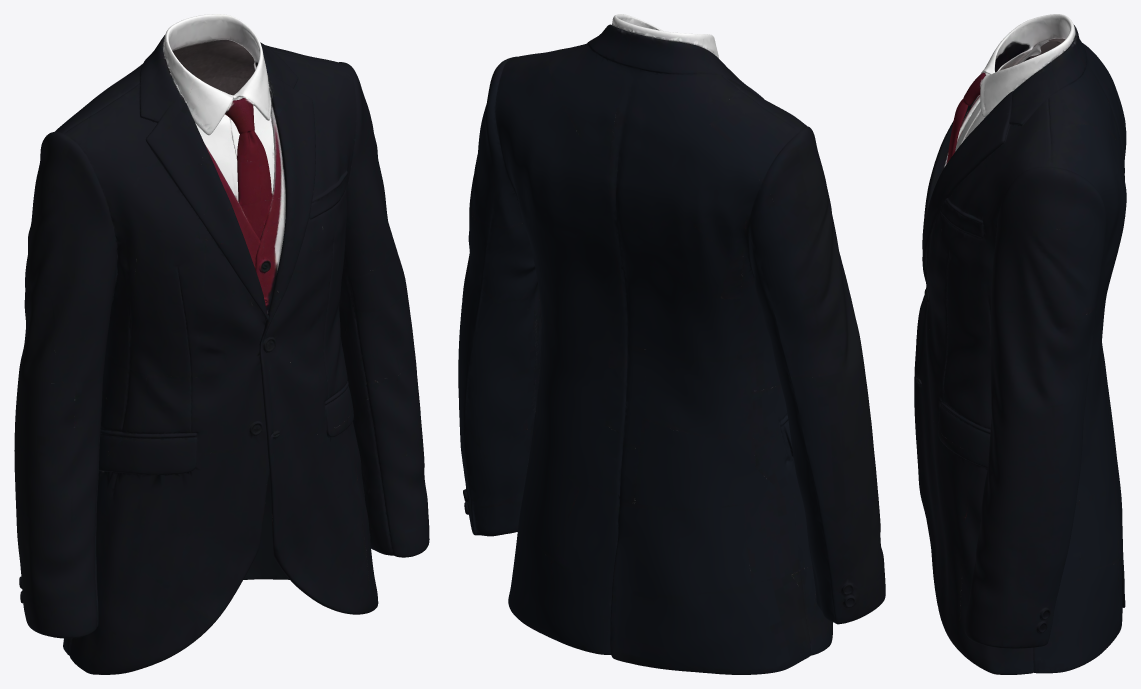
File: black-suit.glb
3 renders of one model, left to right at view 1: azimuth 30°, elevation 25°; view 2: azimuth 150°, elevation 25°; view 3: azimuth 270°, elevation 25°, orthographic. The views are drawn at different scales.
Bounding box in the file's own units: 1.31 × 1.9 × 0.6295.
Materials: 1 (1 with a texture image).
